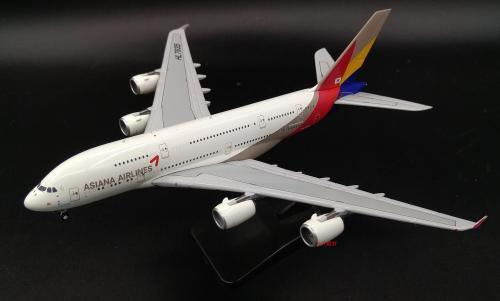airplane: (21, 8, 483, 239)
